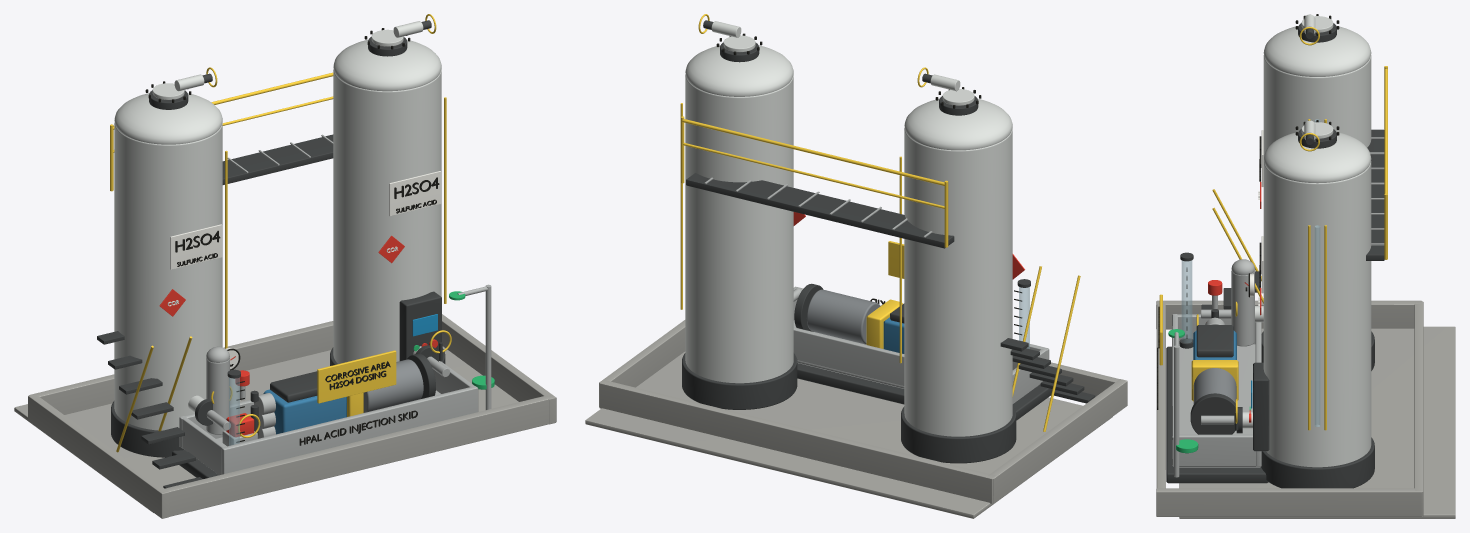
File: AcidInjectionSystem_Redesign.fbx
3 renders of one model, left to right at view 1: azimuth 30°, elevation 25°; view 2: azimuth 150°, elevation 25°; view 3: azimuth 270°, elevation 25°, orthographic.
Parts seen in each view (by area): view 1: AcidTank_A_VerticalTank_Shell, AcidTank_B_VerticalTank_Shell, Containment_Curb_Front, Raised_SpillContainment_FrontLip, AcidInjection_ConcreteContainmentPad, Containment_Curb_Back, Containment_Curb_Left, AcidTank_B_DishedTop, AcidTank_A_DishedTop, Containment_Curb_Right, RaisedMaintenanceWalkway_Grating, CorrosiveArea_SafetySignPlate (+16 smaller); view 2: AcidTank_A_VerticalTank_Shell, AcidTank_B_VerticalTank_Shell, AcidInjection_ConcreteContainmentPad, Containment_Curb_Back, RaisedMaintenanceWalkway_Grating, Containment_Curb_Left, AcidTank_A_DishedTop, AcidTank_B_DishedTop, Raised_SpillContainment_BackLip, AcidTank_A_ShortSkirt, AcidTank_B_ShortSkirt, ExplosionProof_Motor_Housing (+9 smaller); view 3: AcidTank_B_VerticalTank_Shell, AcidInjection_ConcreteContainmentPad, Containment_Curb_Right, AcidTank_A_VerticalTank_Shell, AcidTank_A_DishedTop, AcidTank_B_DishedTop, AcidTank_B_ShortSkirt, AcidResistant_DripTray, ChemicalInjection_Skid_BaseFrame, Raised_SpillContainment_RightLip, Containment_Curb_Left, Containment_Curb_Back (+17 smaller).
Part boxes in pixels (box(x1,y1,x2,y2)): AcidTank_A_VerticalTank_Shell: box(114, 122, 222, 430); AcidTank_B_VerticalTank_Shell: box(333, 69, 441, 363); Containment_Curb_Front: box(161, 395, 554, 516); Raised_SpillContainment_FrontLip: box(221, 386, 478, 474); AcidInjection_ConcreteContainmentPad: box(14, 346, 518, 512); Containment_Curb_Back: box(29, 321, 333, 414); Containment_Curb_Left: box(28, 394, 169, 518); AcidTank_B_DishedTop: box(333, 39, 441, 91); AcidTank_A_DishedTop: box(114, 93, 222, 144); Containment_Curb_Right: box(442, 314, 556, 424); RaisedMaintenanceWalkway_Grating: box(222, 134, 333, 184); CorrosiveArea_SafetySignPlate: box(317, 350, 396, 403); AcidTank_A_VerticalTank_Shell: box(904, 128, 1012, 436); AcidTank_B_VerticalTank_Shell: box(685, 74, 793, 383); AcidInjection_ConcreteContainmentPad: box(585, 351, 1112, 518); Containment_Curb_Back: box(599, 380, 995, 503); RaisedMaintenanceWalkway_Grating: box(686, 173, 954, 248); Containment_Curb_Left: box(988, 379, 1127, 503); AcidTank_A_DishedTop: box(904, 99, 1012, 150); AcidTank_B_DishedTop: box(685, 45, 793, 96); Raised_SpillContainment_BackLip: box(793, 327, 904, 385); AcidTank_A_ShortSkirt: box(901, 406, 1016, 463); AcidTank_B_ShortSkirt: box(682, 353, 797, 409); ExplosionProof_Motor_Housing: box(806, 289, 880, 344); AcidTank_B_VerticalTank_Shell: box(1263, 161, 1371, 467); AcidInjection_ConcreteContainmentPad: box(1179, 326, 1455, 518); Containment_Curb_Right: box(1156, 488, 1422, 516); AcidTank_A_VerticalTank_Shell: box(1263, 55, 1371, 160); AcidTank_A_DishedTop: box(1263, 26, 1371, 76); AcidTank_B_DishedTop: box(1263, 132, 1371, 183); AcidTank_B_ShortSkirt: box(1261, 437, 1374, 488); AcidResistant_DripTray: box(1179, 344, 1261, 467); ChemicalInjection_Skid_BaseFrame: box(1166, 346, 1268, 483); Raised_SpillContainment_RightLip: box(1179, 434, 1255, 466); Containment_Curb_Left: box(1156, 300, 1421, 329); Containment_Curb_Back: box(1414, 301, 1423, 516).
Size of the model in its own units: 884 by 785 by 585.
